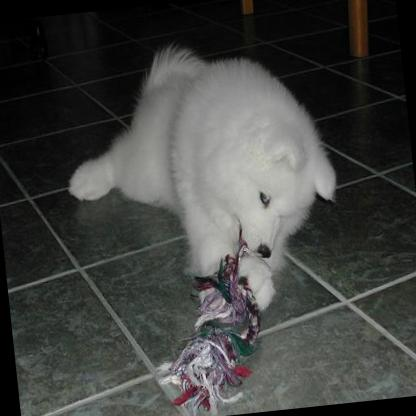Samoyed: (52, 23, 352, 330)
